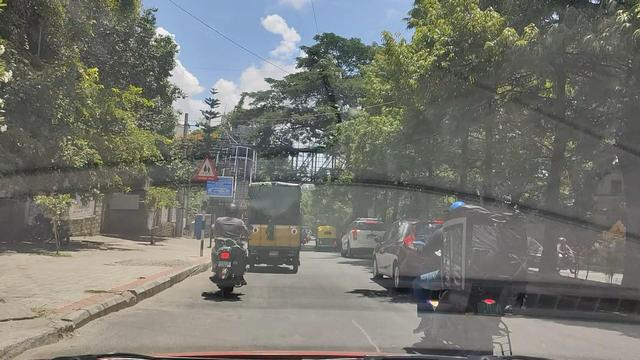HMV: (242, 177, 305, 272)
LMV: (415, 194, 542, 360)
RoadDamages: (325, 316, 393, 353)
